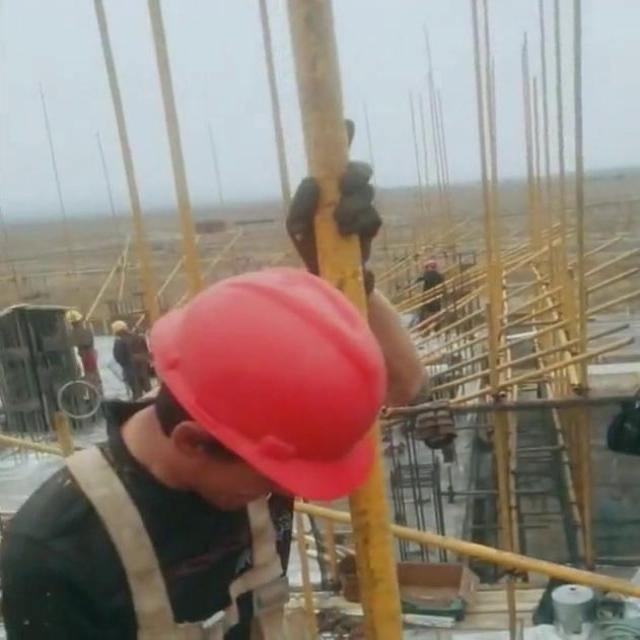Arnes_seguridad: (49, 433, 296, 638)
